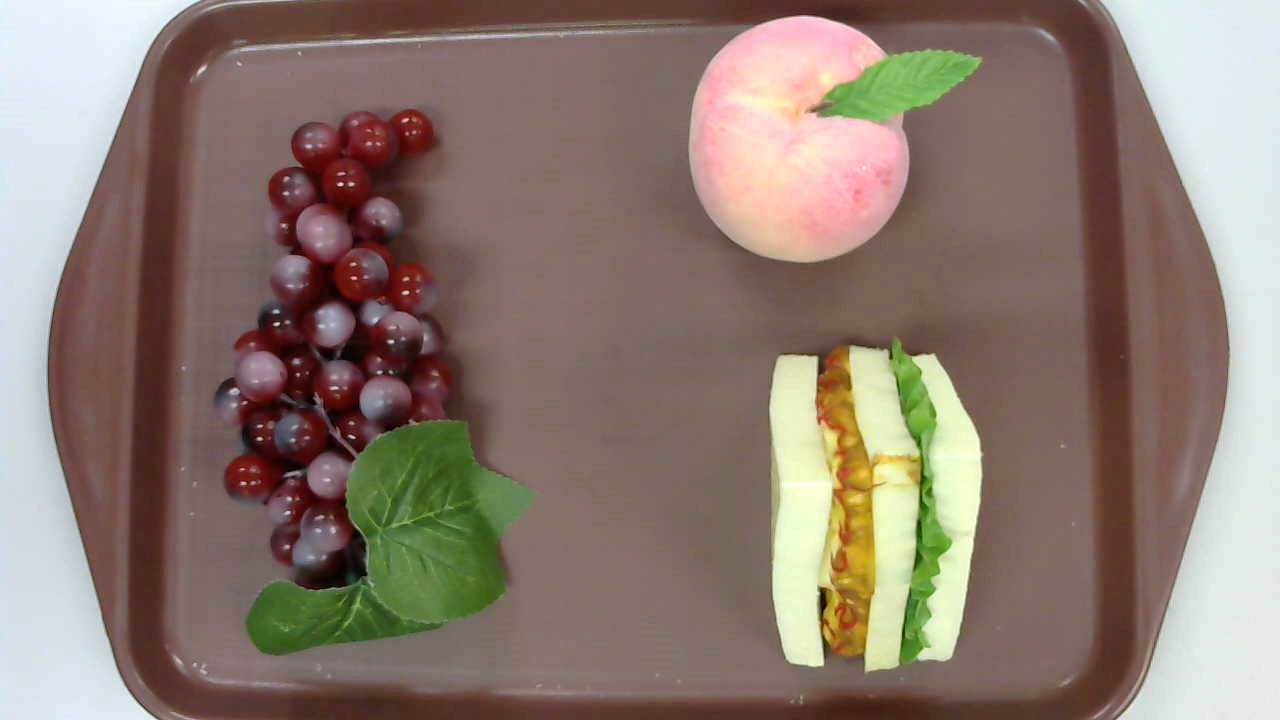grape: (213, 109, 546, 654)
peach: (688, 16, 981, 266)
sandwich: (767, 334, 984, 676)
